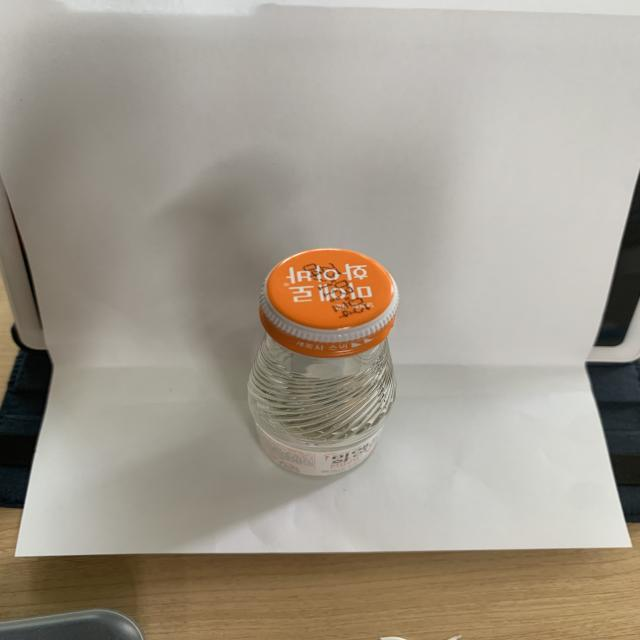Glass: (247, 248, 400, 478)
